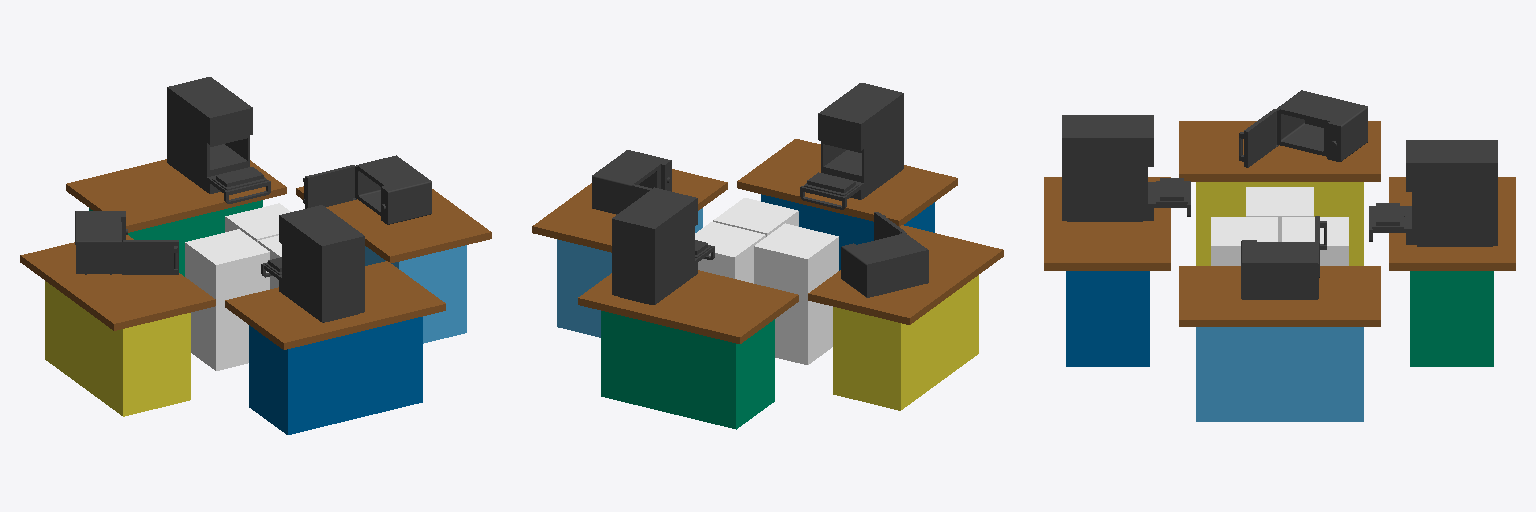
The robot description file, URDF, robot "four_tables_circle":
<?xml version="1.0" ?>
<robot name="four_tables_circle">

  <link name="world" />

<!--Стол №1-->
  <link name="table_1">
    <inertial>
      <origin xyz="0 0 0" rpy="0 0 0"/>
      <mass value="45.0"/>
      <inertia ixx="1.0" ixy="0" ixz="0" iyy="1.0" iyz="0" izz="1.0"/>
    </inertial>
    <visual>
      <origin xyz="0 0 0.7" rpy="0 0 0"/>
      <geometry><box size="1.2 0.75 0.05"/></geometry>
      <material name="wood"><color rgba="0.6 0.4 0.2 1"/></material>
    </visual>
    <collision>
      <origin xyz="0 0 0.7" rpy="0 0 0"/>
      <geometry><box size="1.2 0.75 0.05"/></geometry>
    </collision>
    <visual> <origin xyz="0 0 0.35" rpy="0 0 0"/>
      <geometry><box size="1.0 0.5 0.7"/></geometry>
    </visual>
    <collision>
      <origin xyz="0 0 0.7" rpy="0 0 0"/>
      <geometry><box size="1.0 0.5 0.7"/></geometry>
    </collision>
  </link>

  <joint name="joint_table_1" type="fixed">
    <parent link="world"/>
    <child link="table_1"/>
    <origin xyz="1.02 0 0" rpy="0 0 1.57"/>
  </joint>

<!--Стол №2-->
  <link name="table_2">
    <inertial>
      <origin xyz="0 0 0" rpy="0 0 0"/>
      <mass value="45.0"/>
      <inertia ixx="1.0" ixy="0" ixz="0" iyy="1.0" iyz="0" izz="1.0"/>
    </inertial>
    <visual>
      <origin xyz="0 0 0.7" rpy="0 0 0"/>
      <geometry><box size="1.2 0.75 0.05"/></geometry>
      <material name="wood"><color rgba="0.6 0.4 0.2 1"/></material>
    </visual>
    <collision>
      <origin xyz="0 0 0.7" rpy="0 0 0"/>
      <geometry><box size="1.2 0.75 0.05"/></geometry>
    </collision>
    <visual> <origin xyz="0 0 0.35" rpy="0 0 0"/>
      <geometry><box size="1.0 0.5 0.7"/></geometry>
    </visual>
    <collision>
      <origin xyz="0 0 0.7" rpy="0 0 0"/>
      <geometry><box size="1.0 0.5 0.7"/></geometry>
    </collision>
  </link>

  <joint name="joint_table_2" type="fixed">
    <parent link="world"/>
    <child link="table_2"/>
    <origin xyz="0 1.02 0" rpy="0 0 0"/> 
  </joint>

<!--Стол №3-->
  <link name="table_3">
    <inertial>
      <origin xyz="0 0 0" rpy="0 0 0"/>
      <mass value="45.0"/>
      <inertia ixx="1.0" ixy="0" ixz="0" iyy="1.0" iyz="0" izz="1.0"/>
    </inertial>
    <visual>
      <origin xyz="0 0 0.7" rpy="0 0 0"/>
      <geometry><box size="1.2 0.75 0.05"/></geometry>
      <material name="wood"><color rgba="0.6 0.4 0.2 1"/></material>
    </visual>
    <collision>
      <origin xyz="0 0 0.7" rpy="0 0 0"/>
      <geometry><box size="1.2 0.75 0.05"/></geometry>
    </collision>
    <visual> <origin xyz="0 0 0.35" rpy="0 0 0"/>
      <geometry><box size="1.0 0.5 0.7"/></geometry>
    </visual>
    <collision>
      <origin xyz="0 0 0.7" rpy="0 0 0"/>
      <geometry><box size="1.0 0.5 0.7"/></geometry>
    </collision>
  </link>

  <joint name="joint_table_3" type="fixed">
    <parent link="world"/>
    <child link="table_3"/>
    <origin xyz="-1.02 0 0" rpy="0 0 1.57"/> </joint>

<!--Стол №4-->
  <link name="table_4">
    <inertial>
      <origin xyz="0 0 0" rpy="0 0 0"/>
      <mass value="45.0"/>
      <inertia ixx="1.0" ixy="0" ixz="0" iyy="1.0" iyz="0" izz="1.0"/>
    </inertial>
    <visual>
      <origin xyz="0 0 0.7" rpy="0 0 0"/>
      <geometry><box size="1.2 0.75 0.05"/></geometry>
      <material name="wood"><color rgba="0.6 0.4 0.2 1"/></material>
    </visual>
    <collision>
      <origin xyz="0 0 0.7" rpy="0 0 0"/>
      <geometry><box size="1.2 0.75 0.05"/></geometry>
    </collision>
    <visual> <origin xyz="0 0 0.35" rpy="0 0 0"/>
      <geometry><box size="1.0 0.5 0.7"/></geometry>
    </visual>
    <collision>
      <origin xyz="0 0 0.7" rpy="0 0 0"/>
      <geometry><box size="1.0 0.5 0.7"/></geometry>
    </collision>
  </link>

  <joint name="joint_table_4" type="fixed">
    <parent link="world"/>
    <child link="table_4"/>
    <origin xyz="0 -1.02 0" rpy="0 0 0"/>
 </joint>

 <!--Кубик №1-->
 <link name="cube_1">
    <inertial>
      <origin xyz="0 0 0" rpy="0 0 0"/>
      <mass value="45.0"/>
      <inertia ixx="1.0" ixy="0" ixz="0" iyy="1.0" iyz="0" izz="1.0"/>
    </inertial>
    <visual>
      <origin xyz="0 0 0" rpy="0 0 0"/>
      <geometry><box size="0.4 0.4 0.75"/></geometry>
      <material name="white"><color rgba="1 1 1 1"/></material>
    </visual>
    <collision>
      <origin xyz="0 0 0" rpy="0 0 0"/>
      <geometry><box size="0.4 0.4 0.75"/></geometry>
    </collision>
 </link>

  <joint name="joint_cube_1" type="fixed">
    <parent link="world"/>
    <child link="cube_1"/>
    <origin xyz="-0.21 0 0.375" rpy="0 0 0"/>
 </joint>

 <!--Кубик №2-->
 <link name="cube_2">
    <inertial>
      <origin xyz="0 0 0" rpy="0 0 0"/>
      <mass value="45.0"/>
      <inertia ixx="1.0" ixy="0" ixz="0" iyy="1.0" iyz="0" izz="1.0"/>
    </inertial>
    <visual>
      <origin xyz="0 0 0" rpy="0 0 0"/>
      <geometry><box size="0.4 0.4 0.75"/></geometry>
      <material name="white"><color rgba="1 1 1 1"/></material>
    </visual>
    <collision>
      <origin xyz="0 0 0" rpy="0 0 0"/>
      <geometry><box size="0.4 0.4 0.75"/></geometry>
    </collision>
 </link>

  <joint name="joint_cube_2" type="fixed">
    <parent link="world"/>
    <child link="cube_2"/>
    <origin xyz="0.21 0.21 0.375" rpy="0 0 0"/>
 </joint> 

 <!--Кубик №3-->
 <link name="cube_3">
    <inertial>
      <origin xyz="0 0 0" rpy="0 0 0"/>
      <mass value="45.0"/>
      <inertia ixx="1.0" ixy="0" ixz="0" iyy="1.0" iyz="0" izz="1.0"/>
    </inertial>
    <visual>
      <origin xyz="0 0 0" rpy="0 0 0"/>
      <geometry><box size="0.4 0.4 0.75"/></geometry>
      <material name="white"><color rgba="1 1 1 1"/></material>
    </visual>
    <collision>
      <origin xyz="0 0 0" rpy="0 0 0"/>
      <geometry><box size="0.4 0.4 0.75"/></geometry>
    </collision>
 </link>

 <joint name="joint_cube_3" type="fixed">
    <parent link="world"/>
    <child link="cube_3"/>
    <origin xyz="0.21 -0.21 0.375" rpy="0 0 0"/>
 </joint> 

<!-- Микроволновка на столе №1 -->
 <link name="microwave_1">
    <inertial>
      <origin xyz="0 0 0" rpy="0 0 0"/>
      <mass value="5.0"/> <inertia ixx="0.1" ixy="0" ixz="0" iyy="0.1" iyz="0" izz="0.1"/>
    </inertial>
    
    <visual>
        <origin xyz="0 0 0" rpy="0 0 0" />
        <geometry>
            <mesh filename="microwave.stl" scale="0.0009 0.0009 0.0009"/>
        </geometry>
        <material name="gray">
            <color rgba="0.3 0.3 0.3 1.0" />
        </material>
    </visual>

    <collision>
      <origin xyz="0 0 0" rpy="0 0 0" />
      <geometry>
        <mesh filename="microwave.stl" scale="0.0009 0.0009 0.0009"/>
      </geometry>
    </collision>
</link>

  <joint name="joint_micro_1" type="fixed">
    <parent link="table_1"/>
    <child link="microwave_1"/>
    <origin xyz="0 0 0.75" rpy="0 0 0"/>
 </joint> 

 <!-- Микроволновка на столе №3 -->
 <link name="microwave_3">
    <inertial>
      <origin xyz="0 0 0" rpy="0 0 0"/>
      <mass value="5.0"/> <inertia ixx="0.1" ixy="0" ixz="0" iyy="0.1" iyz="0" izz="0.1"/>
    </inertial>
    
    <visual>
        <origin xyz="0 0 0" rpy="0 0 0" />
        <geometry>
            <mesh filename="microwave.stl" scale="0.0009 0.0009 0.0009"/>
        </geometry>
        <material name="gray">
            <color rgba="0.3 0.3 0.3 1.0" />
        </material>
    </visual>

    <collision>
      <origin xyz="0 0 0" rpy="0 0 0" />
      <geometry>
        <mesh filename="microwave.stl" scale="0.0009 0.0009 0.0009"/>
      </geometry>
    </collision>
</link>

  <joint name="joint_micro_3" type="fixed">
    <parent link="table_3"/>
    <child link="microwave_3"/>
    <origin xyz="0.25 0 0.75" rpy="0 0 2.62"/>
 </joint> 

 <!-- Духовка на столе №4 -->
 <link name="oven_4">
    <inertial>
      <origin xyz="0 0 0" rpy="0 0 0"/>
      <mass value="5.0"/> <inertia ixx="0.1" ixy="0" ixz="0" iyy="0.1" iyz="0" izz="0.1"/>
    </inertial>
    
    <visual>
        <origin xyz="0 0 0" rpy="0 0 0" />
        <geometry>
            <mesh filename="oven_open.stl" scale="0.0009 0.0009 0.0009"/>
        </geometry>
        <material name="gray">
            <color rgba="0.3 0.3 0.3 1.0" />
        </material>
    </visual>

    <collision>
      <origin xyz="0 0 0" rpy="0 0 0" />
      <geometry>
        <mesh filename="oven_open.stl" scale="0.0009 0.0009 0.0009"/>
      </geometry>
    </collision>
</link>

  <joint name="joint_oven_4" type="fixed">
    <parent link="table_4"/>
    <child link="oven_4"/>
    <origin xyz="-0.1 0 0.75" rpy="0 0 0"/>
 </joint> 

  <!-- Духовка на столе №2 -->
 <link name="oven_2">
    <inertial>
      <origin xyz="0 0 0" rpy="0 0 0"/>
      <mass value="5.0"/> <inertia ixx="0.1" ixy="0" ixz="0" iyy="0.1" iyz="0" izz="0.1"/>
    </inertial>
    
    <visual>
        <origin xyz="0 0 0" rpy="0 0 0" />
        <geometry>
            <mesh filename="oven_open.stl" scale="0.0009 0.0009 0.0009"/>
        </geometry>
        <material name="gray">
            <color rgba="0.3 0.3 0.3 1.0" />
        </material>
    </visual>

    <collision>
      <origin xyz="0 0 0" rpy="0 0 0" />
      <geometry>
        <mesh filename="oven_open.stl" scale="0.0009 0.0009 0.0009"/>
      </geometry>
    </collision>
</link>

  <joint name="joint_oven_2" type="fixed">
    <parent link="table_2"/>
    <child link="oven_2"/>
    <origin xyz="0.25 0 0.75" rpy="0 0 3.14"/>
 </joint> 

  <!-- Гриль на столе №2 -->
 <link name="grill_2">
    <inertial>
      <origin xyz="0 0 0" rpy="0 0 0"/>
      <mass value="5.0"/> <inertia ixx="0.1" ixy="0" ixz="0" iyy="0.1" iyz="0" izz="0.1"/>
    </inertial>
    
    <visual>
        <origin xyz="0 0 0" rpy="0 0 0" />
        <geometry>
            <mesh filename="grill_open.stl" scale="0.0009 0.0009 0.0009"/>
        </geometry>
        <material name="gray">
            <color rgba="0.3 0.3 0.3 1.0" />
        </material>
    </visual>

    <collision>
      <origin xyz="0 0 0" rpy="0 0 0" />
      <geometry>
        <mesh filename="grill_open.stl" scale="0.0009 0.0009 0.0009"/>
      </geometry>
    </collision>
</link>

  <joint name="joint_grill_2" type="fixed">
    <parent link="table_2"/>
    <child link="grill_2"/>
    <origin xyz="-0.25 -0.2 0.75" rpy="0 0 0"/>
 </joint> 

   <!-- Гриль на столе №3 -->
 <link name="grill_3">
    <inertial>
      <origin xyz="0 0 0" rpy="0 0 0"/>
      <mass value="5.0"/> <inertia ixx="0.1" ixy="0" ixz="0" iyy="0.1" iyz="0" izz="0.1"/>
    </inertial>
    
    <visual>
        <origin xyz="0 0 0" rpy="0 0 0" />
        <geometry>
            <mesh filename="grill_open.stl" scale="0.0009 0.0009 0.0009"/>
        </geometry>
        <material name="gray">
            <color rgba="0.3 0.3 0.3 1.0" />
        </material>
    </visual>

    <collision>
      <origin xyz="0 0 0" rpy="0 0 0" />
      <geometry>
        <mesh filename="grill_open.stl" scale="0.0009 0.0009 0.0009"/>
      </geometry>
    </collision>
</link>

  <joint name="joint_grill_3" type="fixed">
    <parent link="table_3"/>
    <child link="grill_3"/>
    <origin xyz="-0.4 -0.1 0.75" rpy="0 0 0"/>
 </joint> 

</robot>

--- Facts derived from the render (not from the file) ---
Views: 3 orthographic renders of the robot side by side, from view 1: azimuth 30°, elevation 25°; view 2: azimuth 150°, elevation 25°; view 3: azimuth 270°, elevation 25°.
Model four_tables_circle with 14 links and 13 joints (13 fixed), rooted at world, posed every joint at zero.
Visible links, largest first — view 1: table_4, table_3, table_1, table_2, oven_2, oven_4, cube_1, microwave_1, microwave_3, cube_2; view 2: table_2, table_3, table_4, oven_4, oven_2, table_1, cube_1, microwave_3, microwave_1, cube_2, cube_3; view 3: table_1, table_4, table_3, table_2, oven_4, oven_2, microwave_3, microwave_1, cube_3, cube_1, cube_2.
Link boxes in pixels (x1=…): table_4: x1=225, y1=261, x2=445, y2=434; table_3: x1=20, y1=235, x2=215, y2=416; table_1: x1=296, y1=186, x2=491, y2=343; table_2: x1=66, y1=159, x2=286, y2=276; oven_2: x1=167, y1=77, x2=270, y2=203; oven_4: x1=261, y1=205, x2=364, y2=322; cube_1: x1=185, y1=229, x2=269, y2=370; microwave_1: x1=303, y1=155, x2=431, y2=224; microwave_3: x1=75, y1=211, x2=178, y2=274; cube_2: x1=225, y1=203, x2=290, y2=242; table_2: x1=578, y1=270, x2=798, y2=429; table_3: x1=808, y1=225, x2=1003, y2=410; table_4: x1=737, y1=139, x2=957, y2=270; oven_4: x1=800, y1=83, x2=903, y2=209; oven_2: x1=612, y1=187, x2=714, y2=304; table_1: x1=532, y1=169, x2=727, y2=337; cube_1: x1=754, y1=223, x2=838, y2=364; microwave_3: x1=841, y1=212, x2=928, y2=297; microwave_1: x1=592, y1=150, x2=671, y2=214; cube_2: x1=695, y1=222, x2=765, y2=283; cube_3: x1=713, y1=198, x2=798, y2=236; table_1: x1=1179, y1=266, x2=1380, y2=421; table_4: x1=1044, y1=177, x2=1170, y2=366; table_3: x1=1179, y1=121, x2=1380, y2=265; table_2: x1=1389, y1=177, x2=1515, y2=366; oven_4: x1=1062, y1=115, x2=1190, y2=221; oven_2: x1=1369, y1=140, x2=1497, y2=246; microwave_3: x1=1239, y1=90, x2=1367, y2=167; microwave_1: x1=1241, y1=216, x2=1326, y2=299; cube_3: x1=1211, y1=217, x2=1277, y2=265; cube_1: x1=1246, y1=187, x2=1313, y2=241; cube_2: x1=1282, y1=217, x2=1348, y2=265.
Bounding box of the posed robot: 2.79 × 2.79 × 1.29 m (x, y, z).
Meshes: 3 distinct files referenced, 4 mesh visuals loaded (2 binary STL); not drawn: 2 (reference not matched to a file when rendering).
